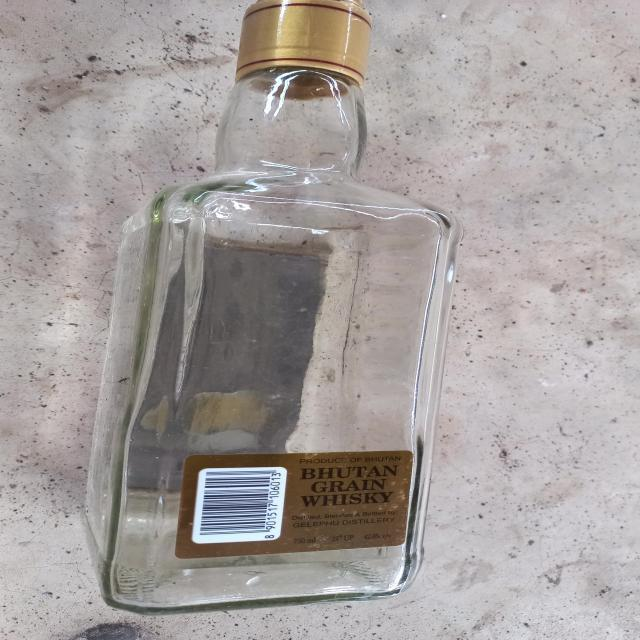Glass: (80, 0, 467, 618)
